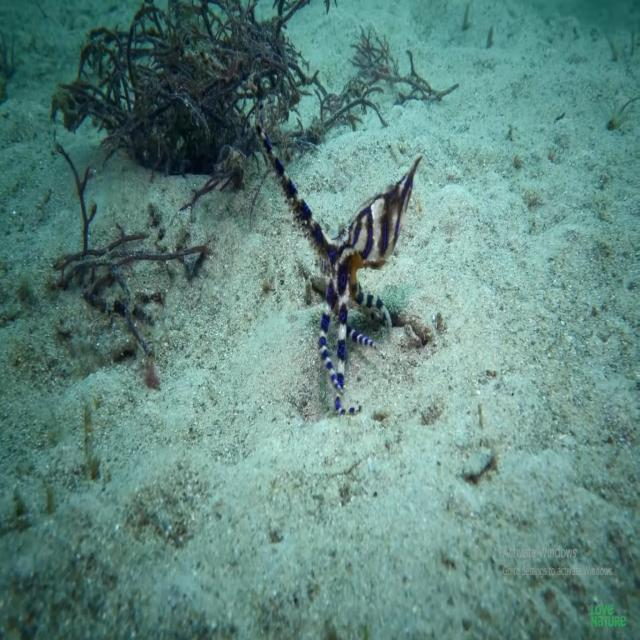blue_ringed_octopus: (254, 94, 423, 418)
